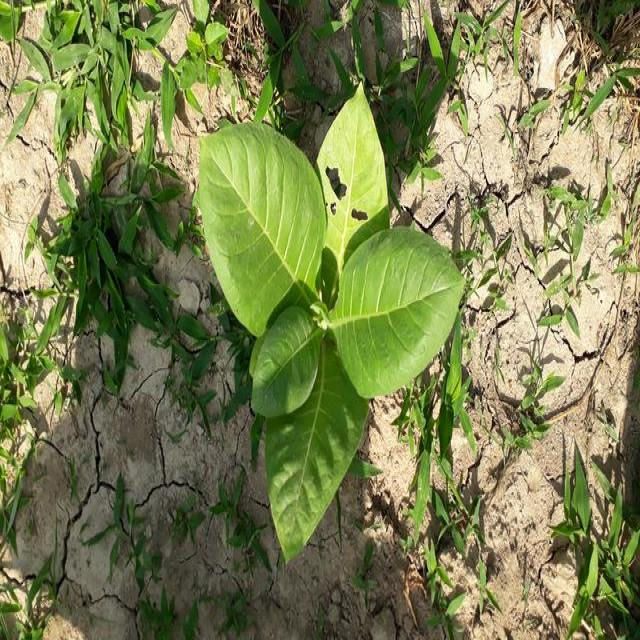crop: (194, 94, 453, 556)
